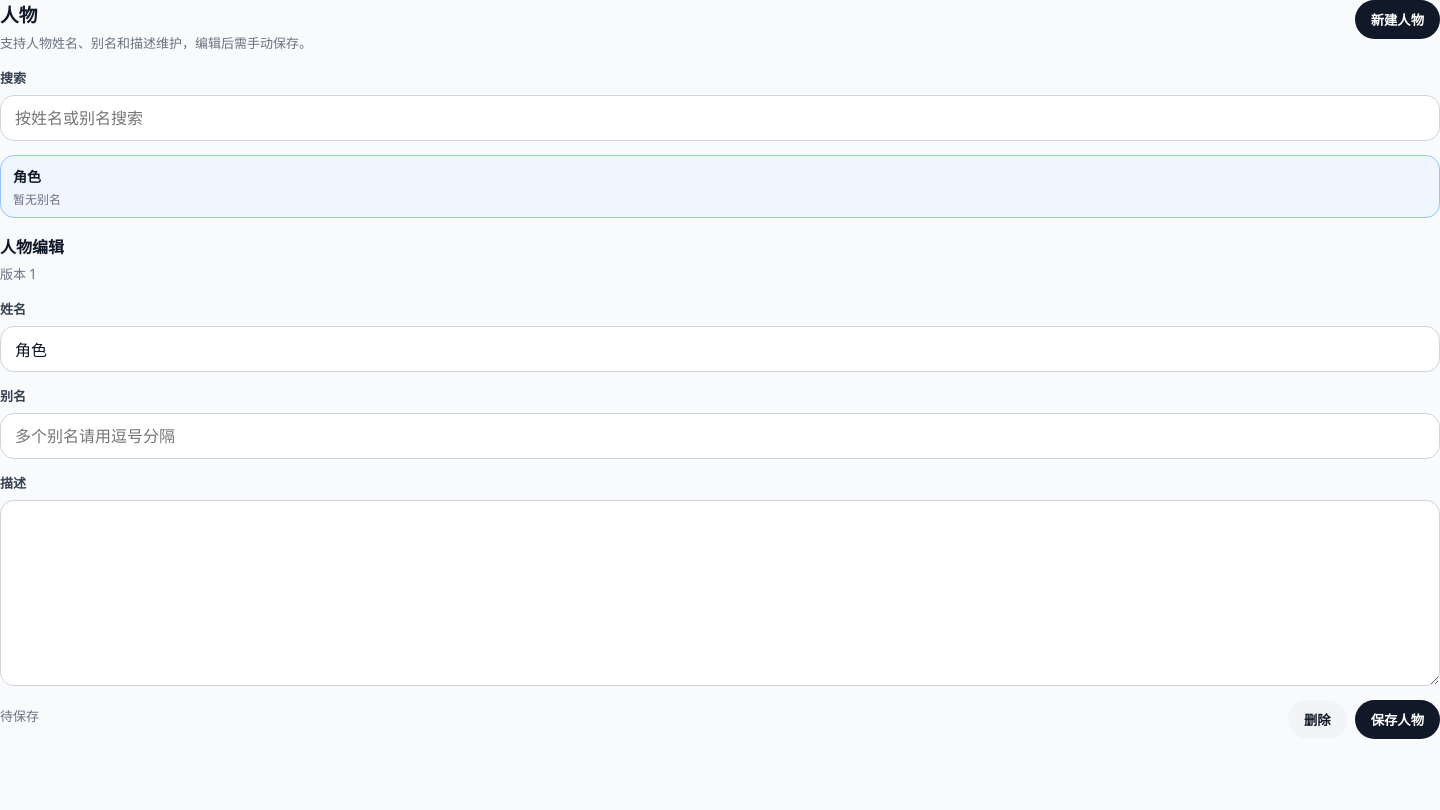
CharacterPanel › keeps local draft and opens conflict modal after 409
Type "本地描述" into the text box with test id "character-description" at (720, 593), box [0, 500, 1439, 686]
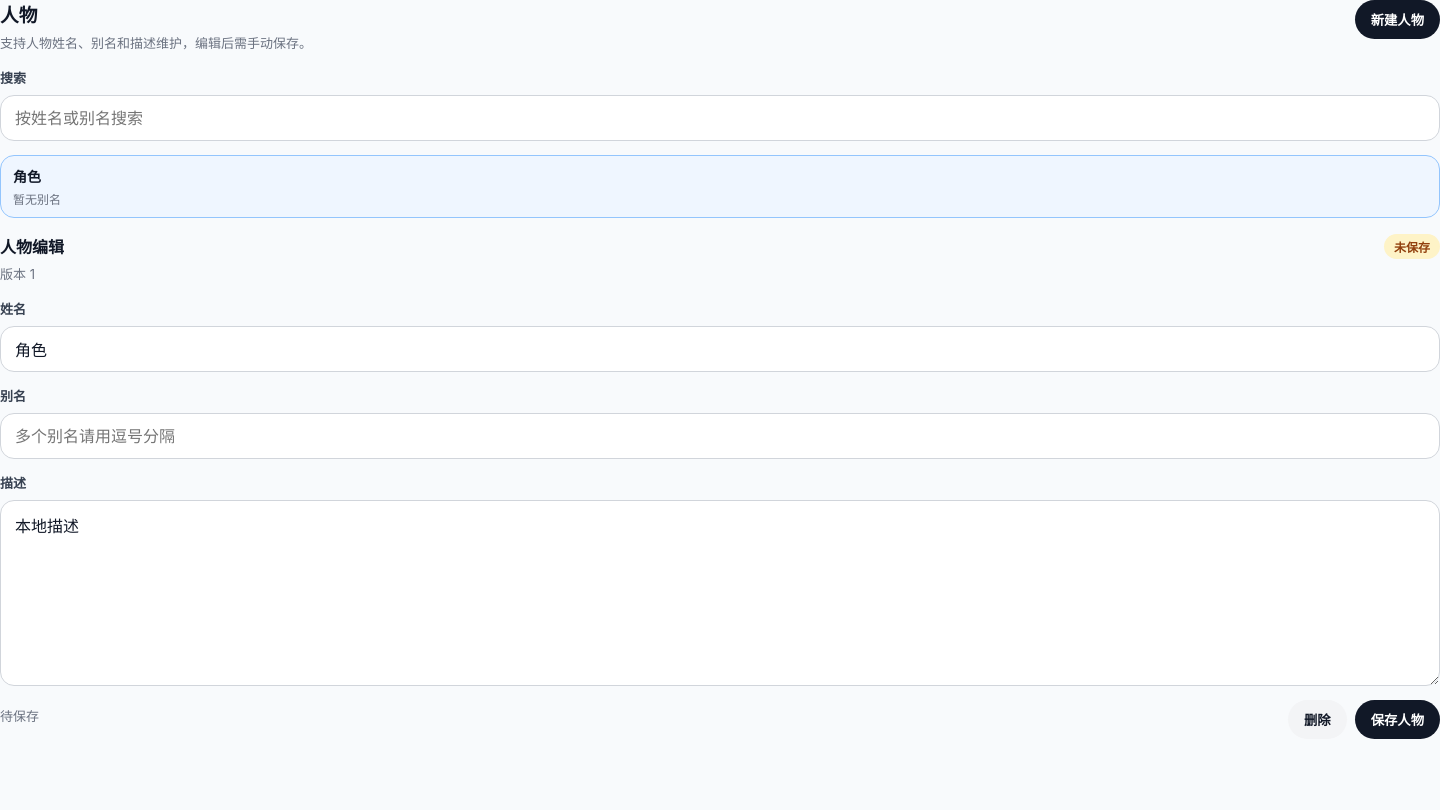
Click the button with class "save-button" at (1397, 719), box [1355, 700, 1439, 739]
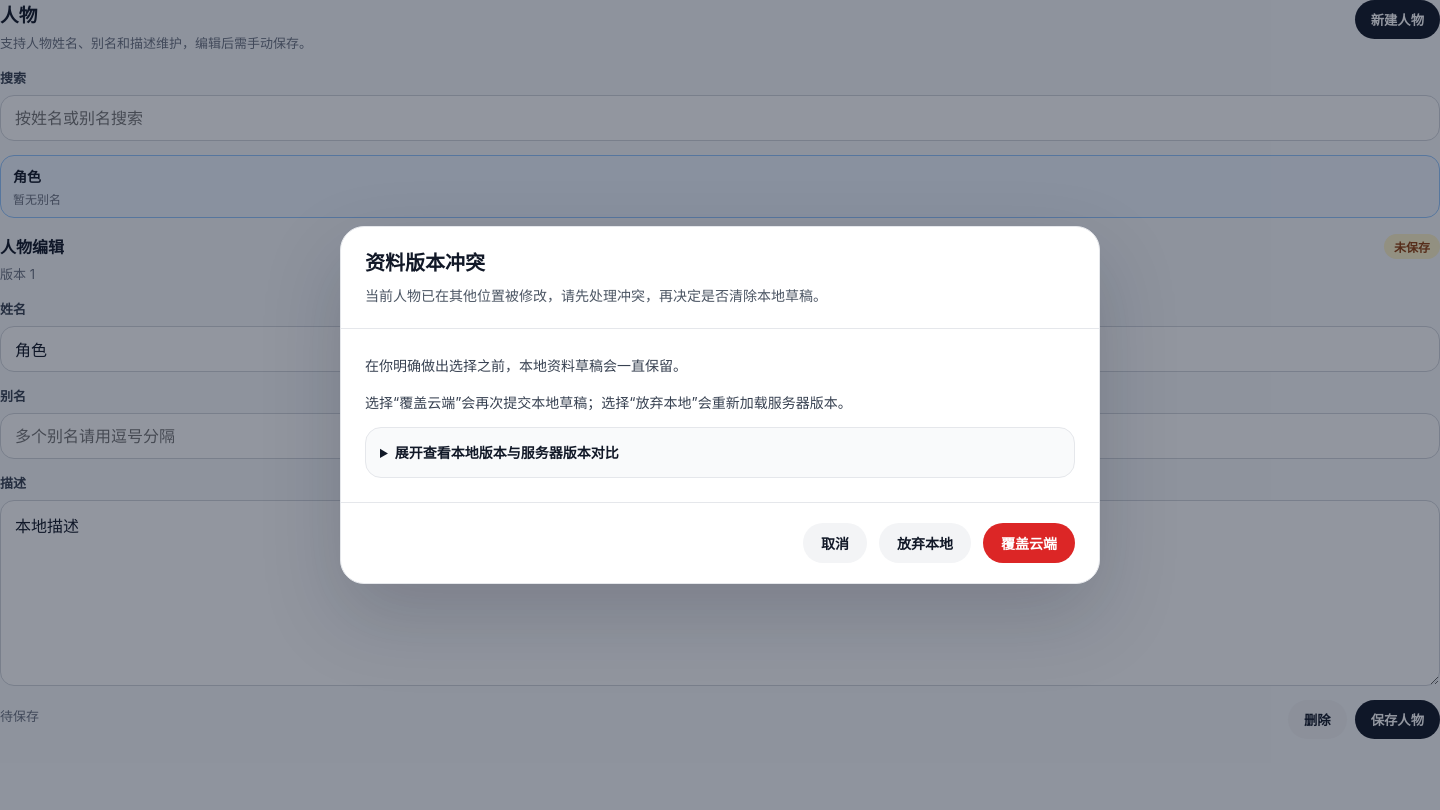
Result: the element that starts with "资料版本冲突" is shown
Result: the text "资料版本冲突" is shown at [365, 251, 485, 275]
